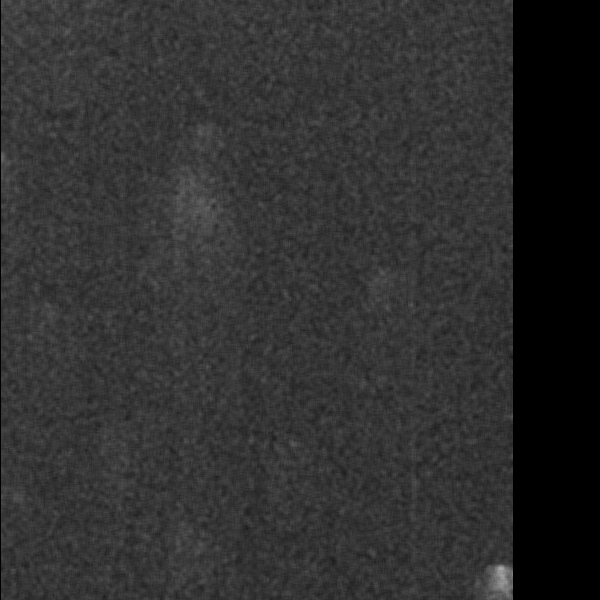spark: (177, 188, 223, 224), (489, 558, 515, 600)
